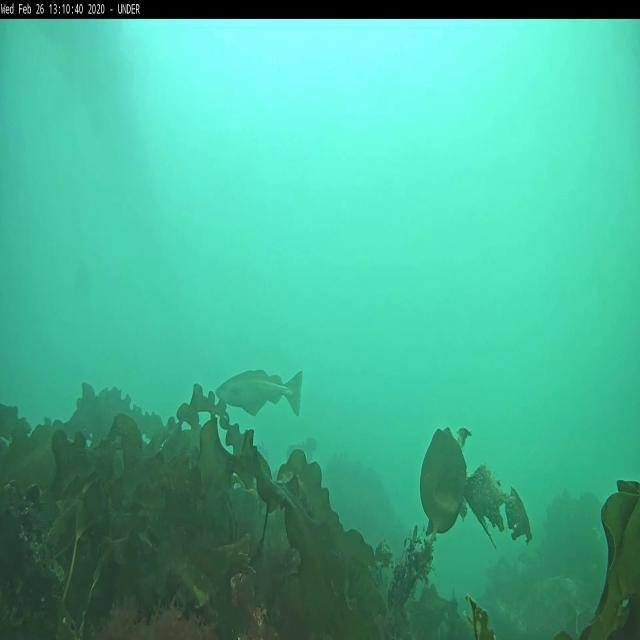fish: (215, 367, 302, 417)
